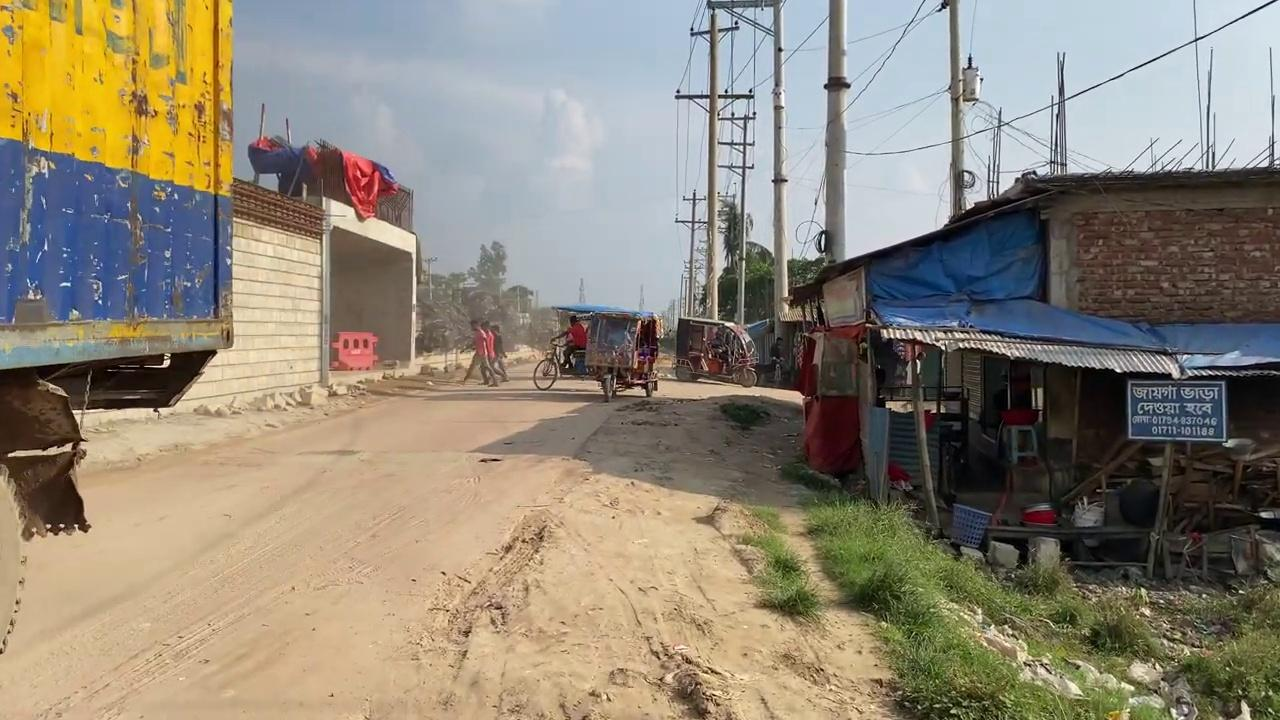Muddy road: (1, 356, 910, 718)
Pole: (822, 0, 849, 264), (770, 2, 789, 341), (910, 354, 941, 532), (704, 5, 720, 321), (947, 1, 965, 218)
Tree: (0, 0, 236, 400)
